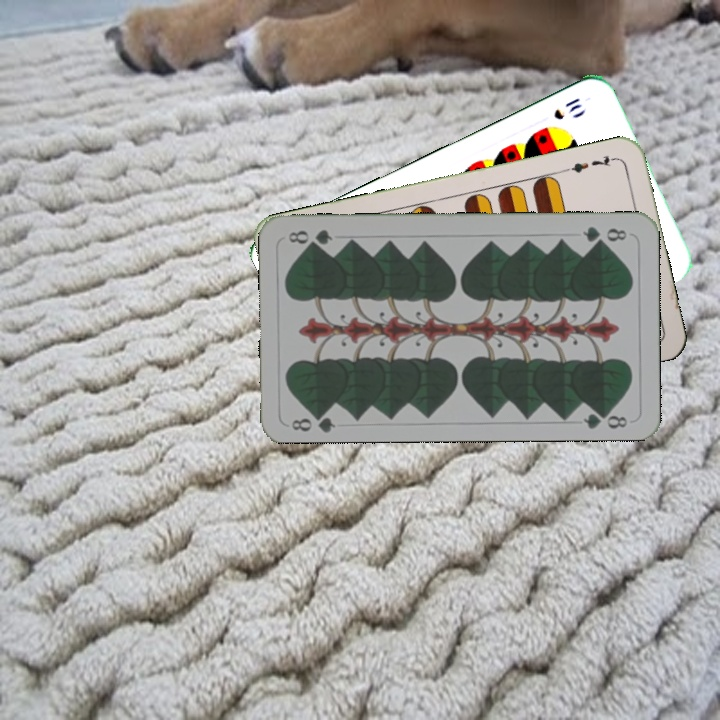E7: (560, 151, 619, 176)
G8: (288, 407, 338, 434), (578, 222, 630, 246)
S10: (549, 93, 585, 122)
